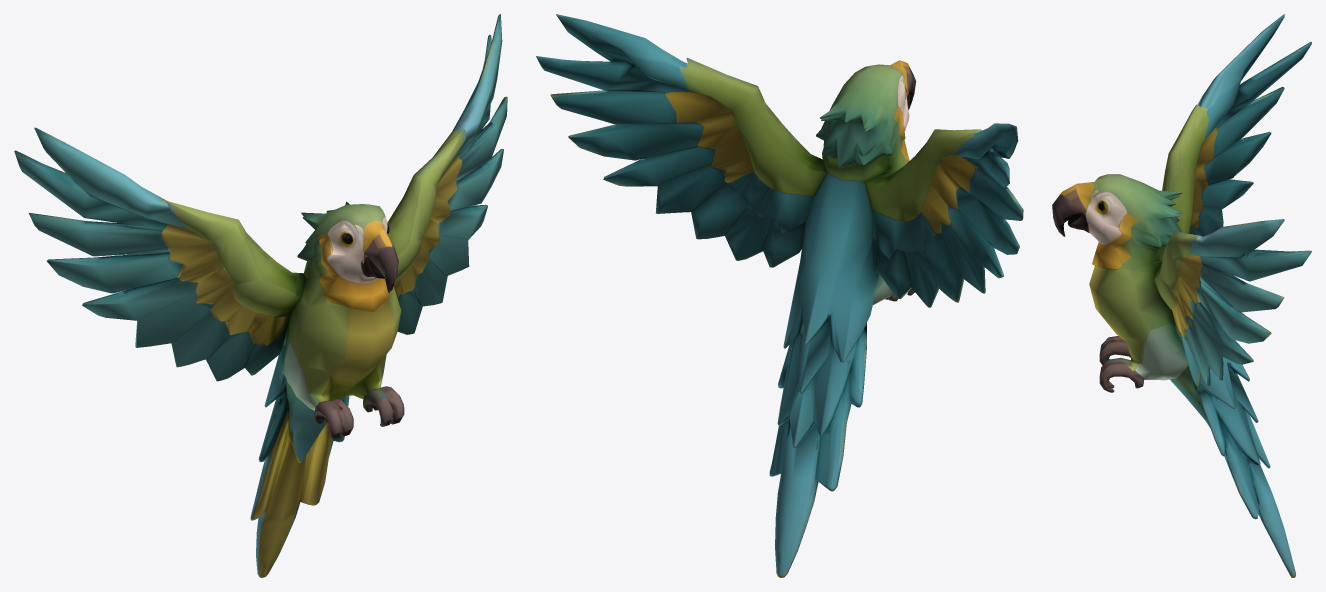
The model's file is bird.fbx.
The picture shows the model from 3 angles, left to right: view 1: azimuth 30°, elevation 25°; view 2: azimuth 150°, elevation 25°; view 3: azimuth 270°, elevation 25°; orthographic projection. The views are drawn at different scales.
Parts seen in each view (by area): view 1: mesh_input; view 2: mesh_input; view 3: mesh_input.
Part boxes in pixels (x1=…): mesh_input: x1=14, y1=14, x2=507, y2=577; mesh_input: x1=536, y1=14, x2=1023, y2=577; mesh_input: x1=1052, y1=14, x2=1311, y2=577.
Size of the model in its own units: 186 by 190 by 97.05.
Materials: 1 (1 with a texture image).
